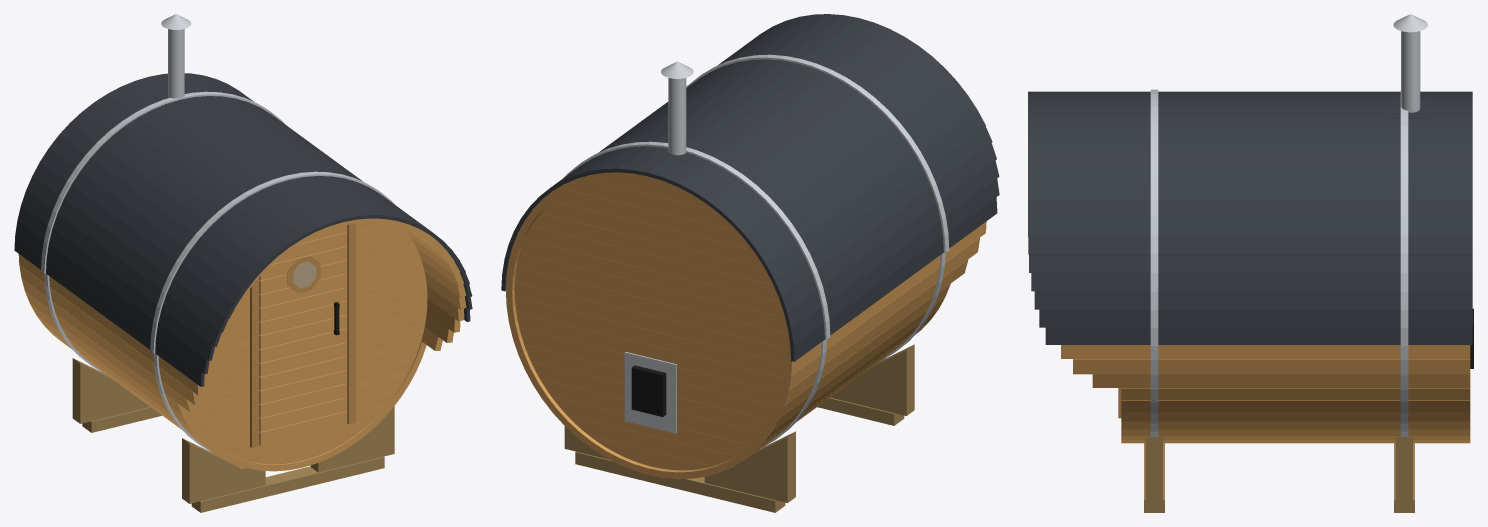
The model's file is баня_бочка_2_2_м_с_козырьком_0_5_м_печь_каменка_бак_лавки.glb.
3 views of the same model, side by side, from view 1: azimuth 30°, elevation 25°; view 2: azimuth 150°, elevation 25°; view 3: azimuth 270°, elevation 25° (orthographic). The views are drawn at different scales.
Parts seen in each view (by area): view 1: roof, barrel, walls; view 2: roof, walls, barrel; view 3: roof, walls, barrel.
Part boxes in pixels (bbox=[...]): roof: bbox=[14, 73, 472, 386]; barrel: bbox=[44, 14, 394, 512]; walls: bbox=[18, 222, 460, 471]; roof: bbox=[501, 14, 999, 361]; walls: bbox=[506, 178, 986, 479]; barrel: bbox=[564, 61, 945, 512]; roof: bbox=[1028, 89, 1472, 345]; walls: bbox=[1061, 345, 1470, 443]; barrel: bbox=[1118, 14, 1473, 512].
Size of the model in its own units: 2.07 by 2.84 by 2.57.
